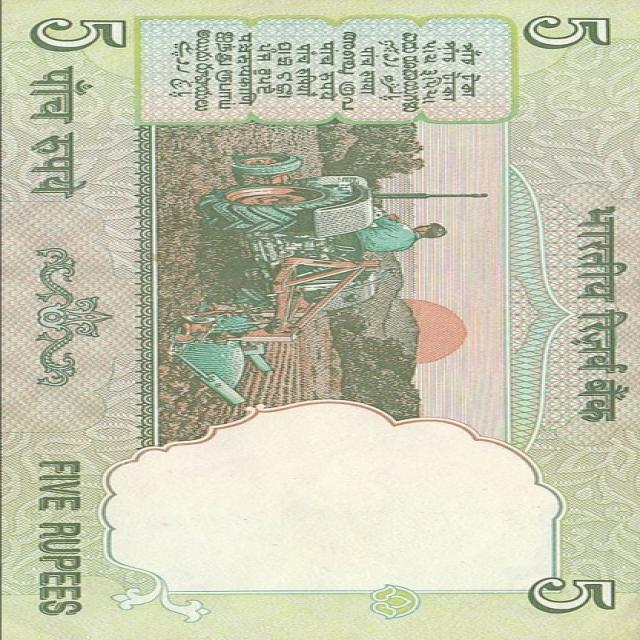5IndianRupees: (13, 0, 632, 639)
